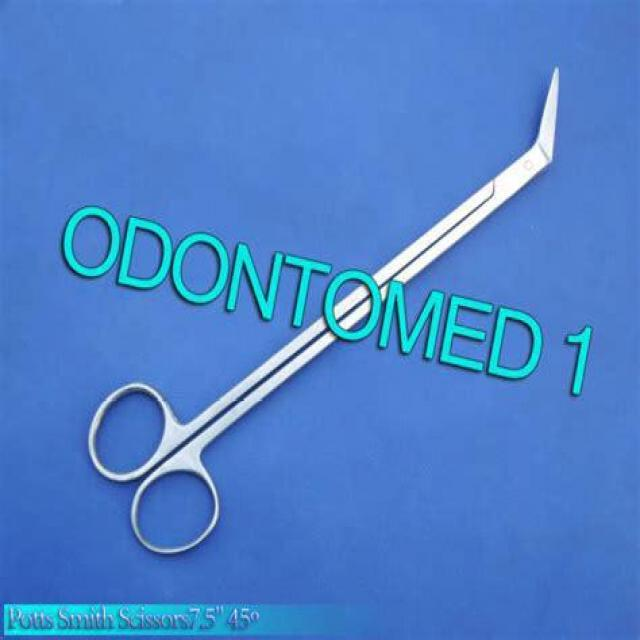Potts: (81, 57, 563, 564)
